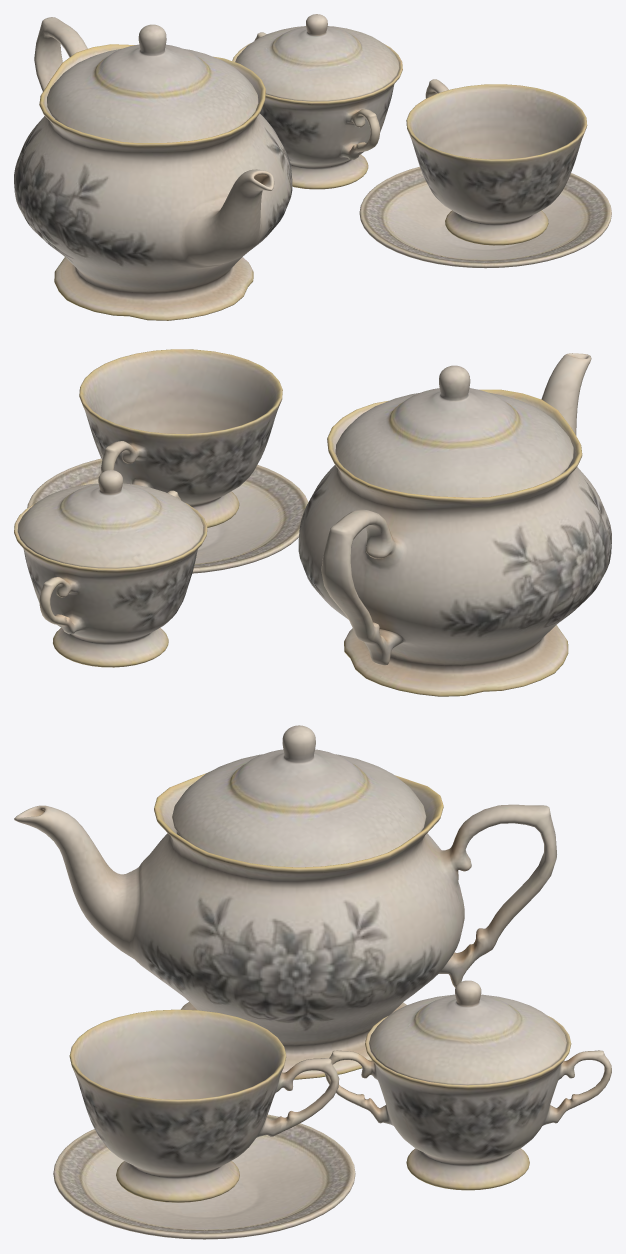
File: tea-service.glb
The picture shows the model from 3 angles, top to bottom: view 1: azimuth 30°, elevation 25°; view 2: azimuth 150°, elevation 25°; view 3: azimuth 270°, elevation 25°; orthographic projection. The views are drawn at different scales.
Parts seen in each view (by area): view 1: tea_set_01_cup_small_01; view 2: tea_set_01_cup_small_01; view 3: tea_set_01_cup_small_01.
Boxes of the visible parts, left/top/right/bottom form: tea_set_01_cup_small_01: left=14, top=14, right=611, bottom=320; tea_set_01_cup_small_01: left=14, top=349, right=611, bottom=696; tea_set_01_cup_small_01: left=14, top=725, right=611, bottom=1239.
Bounding box in the file's own units: 0.36 × 0.1658 × 0.2974.
Materials: 1 (1 with a texture image).
